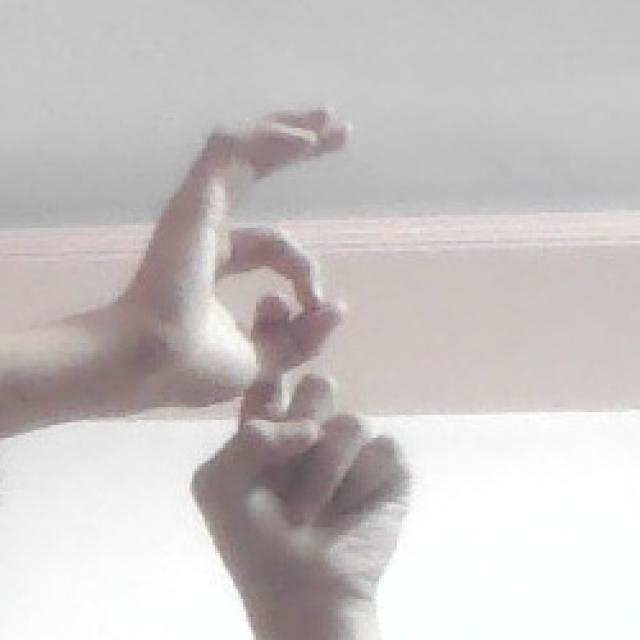Alphabet-Q: (70, 90, 457, 617)
